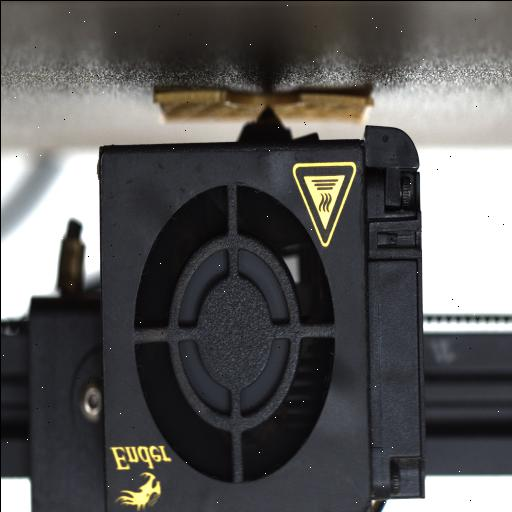warp: (335, 86, 381, 110)
